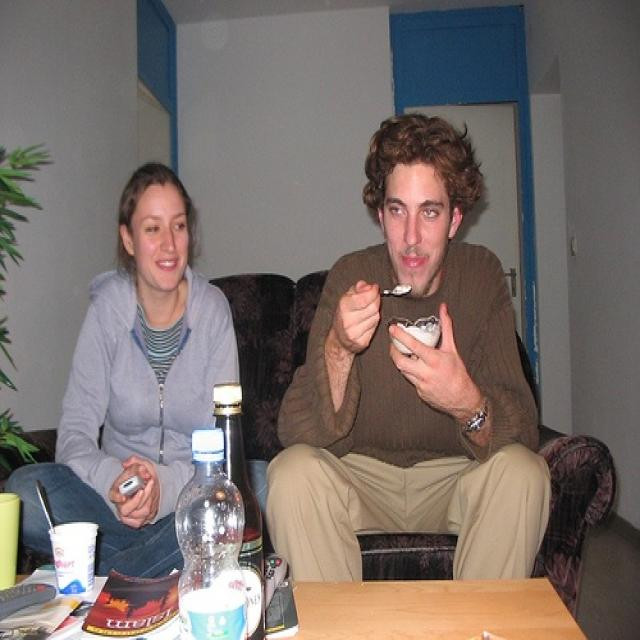bottle: (176, 428, 248, 638), (212, 381, 268, 638)
pottedplant: (0, 138, 54, 464)
sofa: (3, 264, 617, 626)
